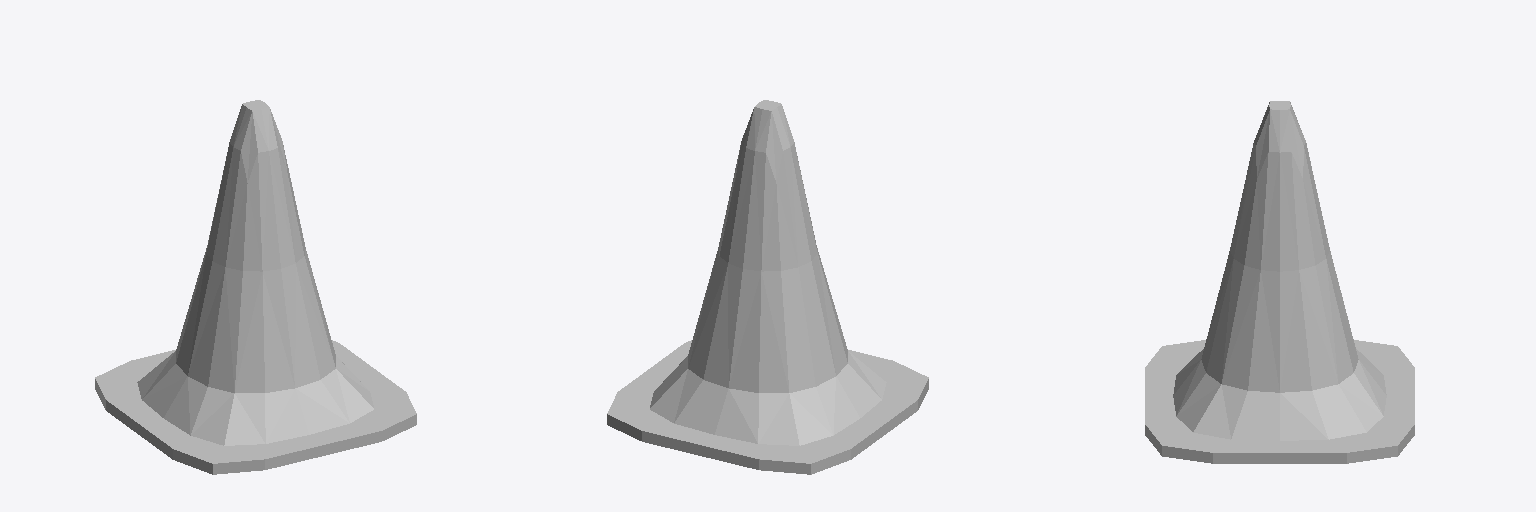
File: lwpltrfccon6.obj
The picture shows the model from 3 angles: view 1: azimuth 30°, elevation 25°; view 2: azimuth 150°, elevation 25°; view 3: azimuth 270°, elevation 25°; orthographic projection.
Parts seen in each view (by area): view 1: Cube.002; view 2: Cube.002; view 3: Cube.002.
Part boxes in pixels (left/top/right/bottom): Cube.002: left=95, top=100, right=416, bottom=474; Cube.002: left=607, top=100, right=928, bottom=474; Cube.002: left=1145, top=101, right=1414, bottom=463.
Size of the model in its own units: 2.28 by 2.82 by 2.28.